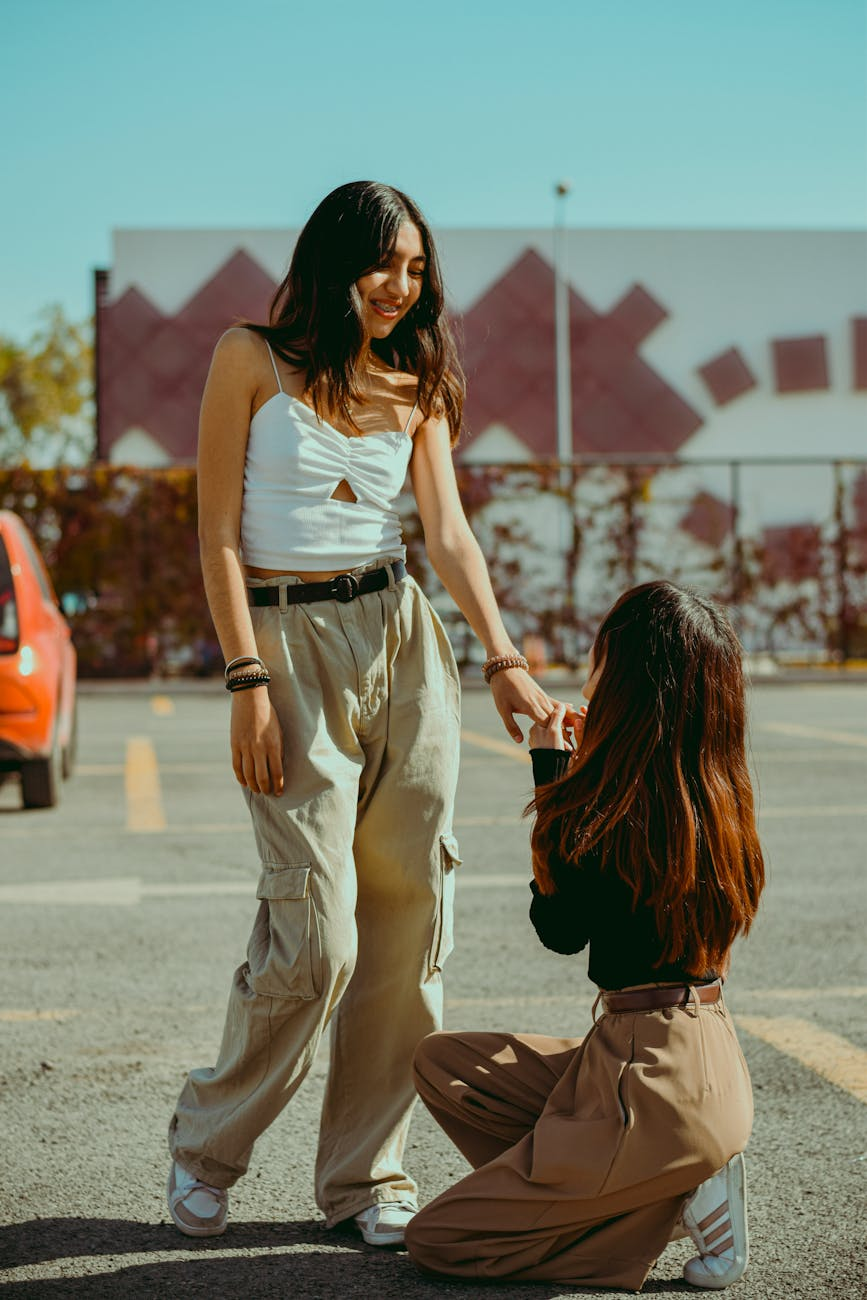crop_top: (210, 352, 446, 566)
